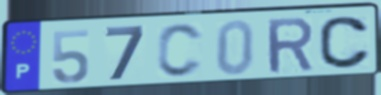0: (213, 19, 258, 78)
5: (50, 27, 91, 85)
7: (103, 23, 149, 83)
C: (317, 14, 374, 71), (155, 22, 206, 80)
R: (265, 15, 316, 77)
